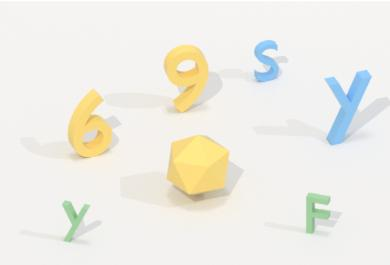0-TronCanh: (163, 129, 234, 200)
6: (65, 86, 116, 161)
9: (162, 42, 212, 118)
S: (250, 36, 283, 87)
y: (322, 66, 377, 149), (59, 198, 93, 245), (303, 188, 333, 239)
